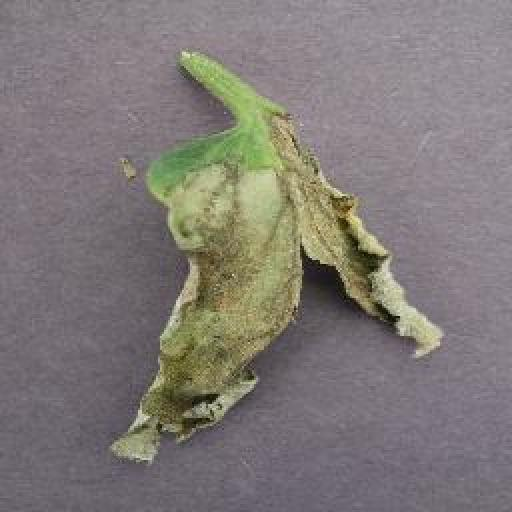Late Blight: (112, 125, 443, 472)
